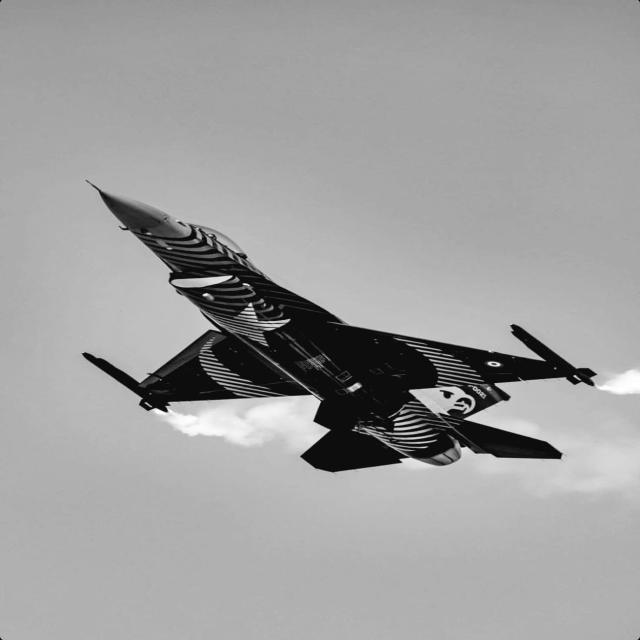iha: (29, 185, 595, 471)
